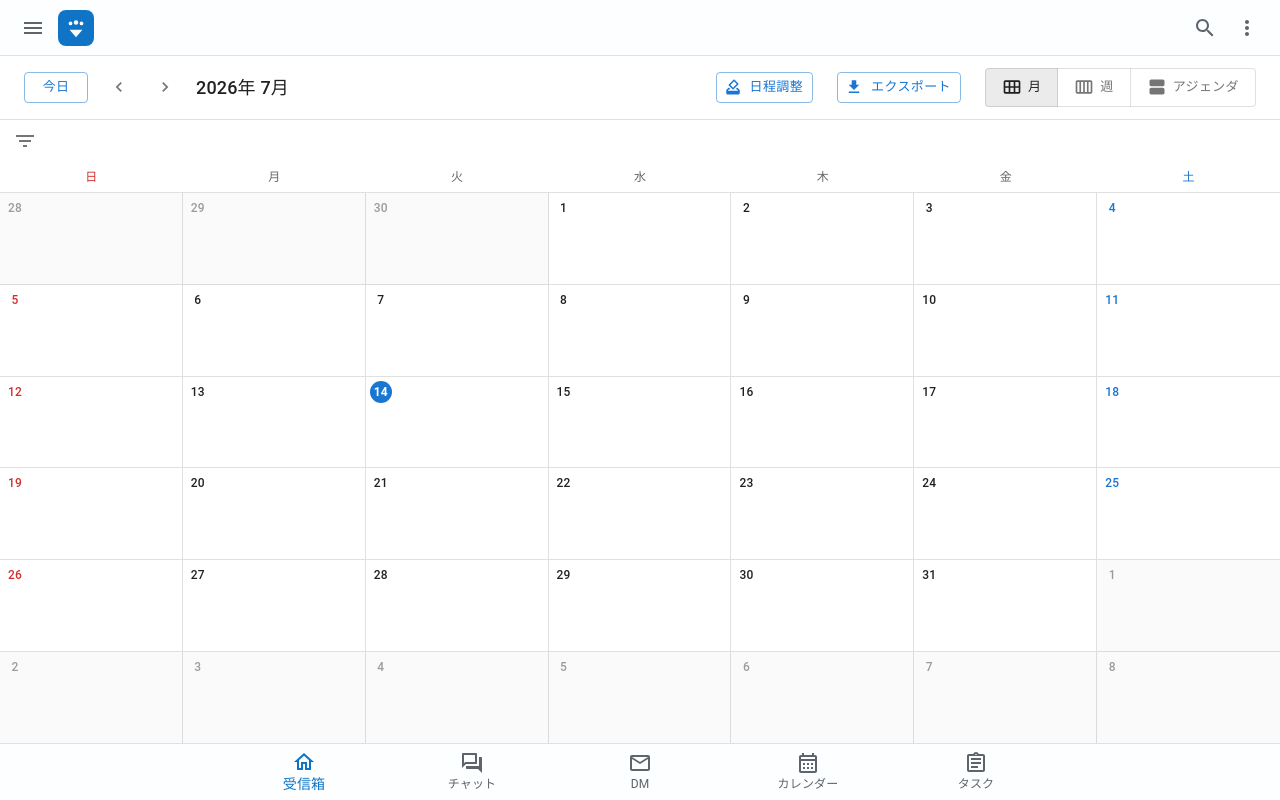
Test case: CalendarPage: モバイルレイアウト › ChannelFilterPanel の表示制御 › モバイル幅で Drawer を閉じると ChannelFilterPanel が非表示になる
The width and height of the screenshot is (1280, 800).
Click the button named "フィルター".
click(25, 141)  # box [8,124,42,158]
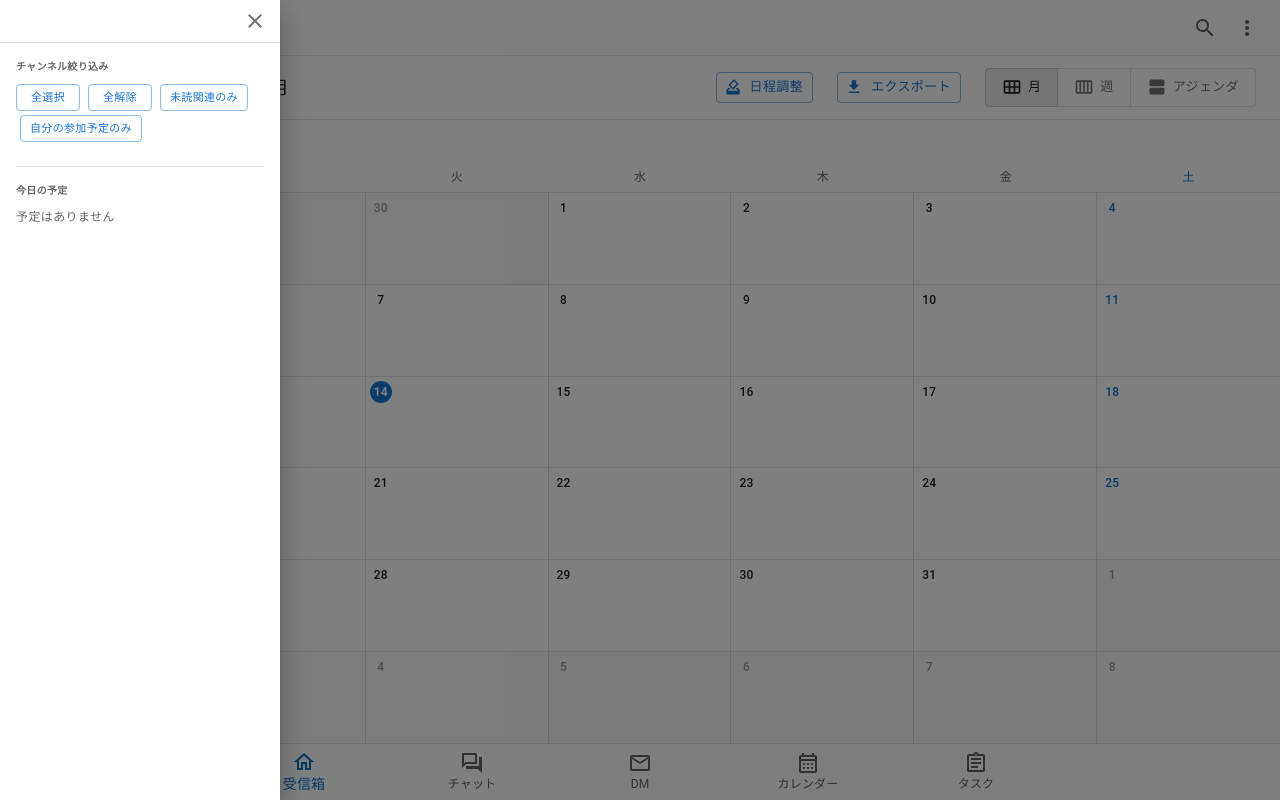
Expected: the element with test id "channel-filter-panel" is shown, [16,61,248,224]
Click the button named "閉じる".
click(255, 21)  # box [238,4,272,38]
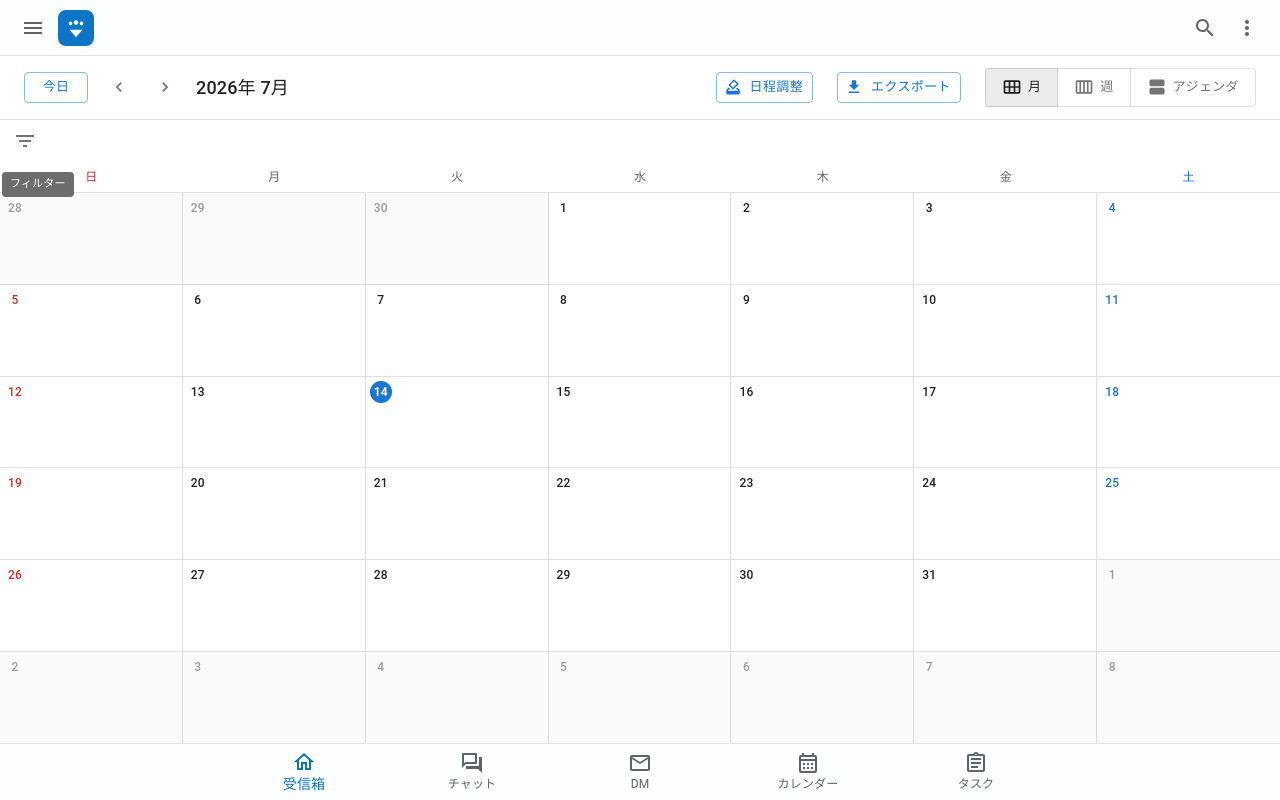
Expected: the element with test id "channel-filter-panel" is gone
